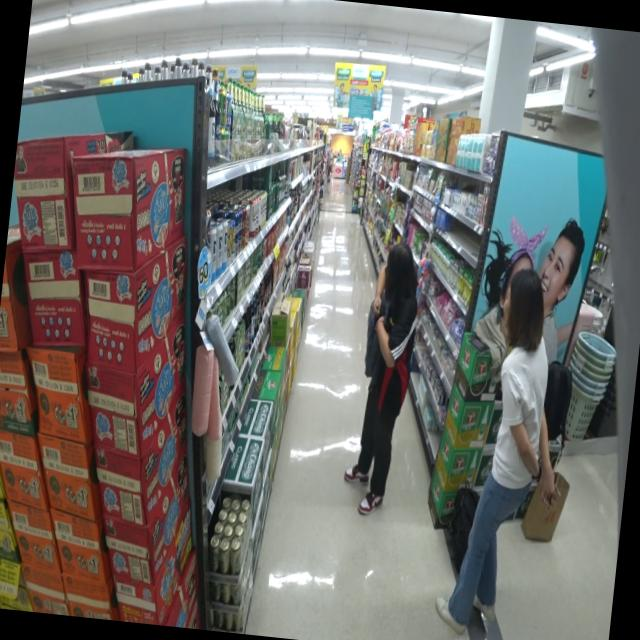shoplifting: (346, 238, 425, 520)
